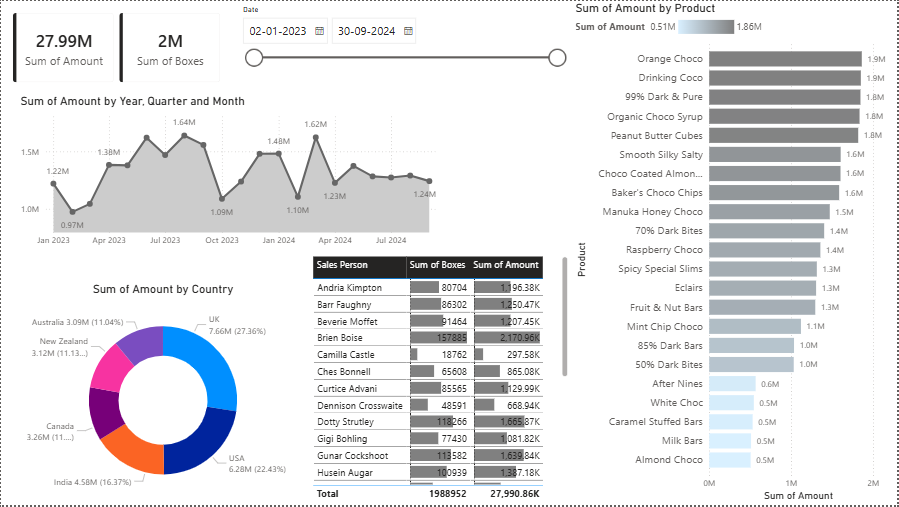

Layout of this report page (visuals, bound fields, positions):
{"tool":"powerbi","page":{"name":"Page 1","canvas":[1280,720],"ordinal":0},"visuals":[{"type":"lineChart","fields":{"Y":["Sum(data.Amount)"],"Category":["data.Date.Variation.Date Hierarchy.Year","data.Date.Variation.Date Hierarchy.Quarter","data.Date.Variation.Date Hierarchy.Month","data.Date.Variation.Date Hierarchy.Day"]},"box":[23.4,133.2,616.1,226.8],"z":1000},{"type":"donutChart","fields":{"Category":["data.Country"],"Y":["Sum(data.Amount)"]},"box":[23.4,401,417.1,319],"z":2000},{"type":"tableEx","fields":{"Values":["data.Sales Person","Sum(data.Boxes)","Sum(data.Amount)"]},"box":[440.5,360,374.6,360],"z":3000},{"type":"clusteredBarChart","fields":{"Y":["Sum(data.Amount)"],"Category":["data.Product"]},"box":[815.1,0,465.4,720],"z":4000},{"type":"cardVisual","fields":{"Data":["Sum(data.Amount)","Sum(data.Boxes)"]},"box":[0,0,330.7,133.2],"z":4001},{"type":"slicer","fields":{"Values":["data.Date"]},"box":[332.2,0,482.9,109.8],"z":4002}]}

Visuals, with their boxes in screenshot pixels (x1, y1, x2, y2), scaled from the page's 1280x720 canvas onto the 899x507 screenshot:
lineChart - Sum(data.Amount) x data.Date.Variation.Date Hierarchy.Year: pyautogui.locateOnScreen(16, 94, 449, 254)
donutChart - data.Country x Sum(data.Amount): pyautogui.locateOnScreen(16, 282, 309, 506)
tableEx - data.Sales Person x Sum(data.Boxes): pyautogui.locateOnScreen(309, 254, 572, 506)
clusteredBarChart - Sum(data.Amount) x data.Product: pyautogui.locateOnScreen(572, 0, 898, 506)
cardVisual - Sum(data.Amount) x Sum(data.Boxes): pyautogui.locateOnScreen(0, 0, 232, 94)
slicer - data.Date: pyautogui.locateOnScreen(233, 0, 572, 77)
